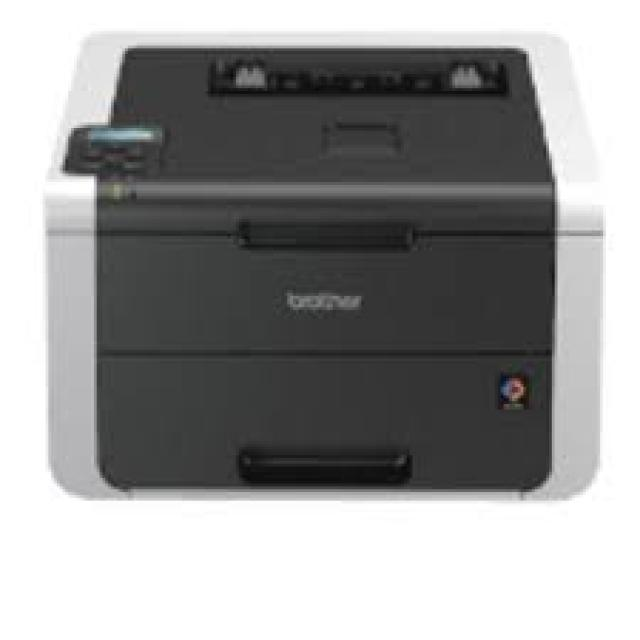printer: (40, 28, 606, 500)
